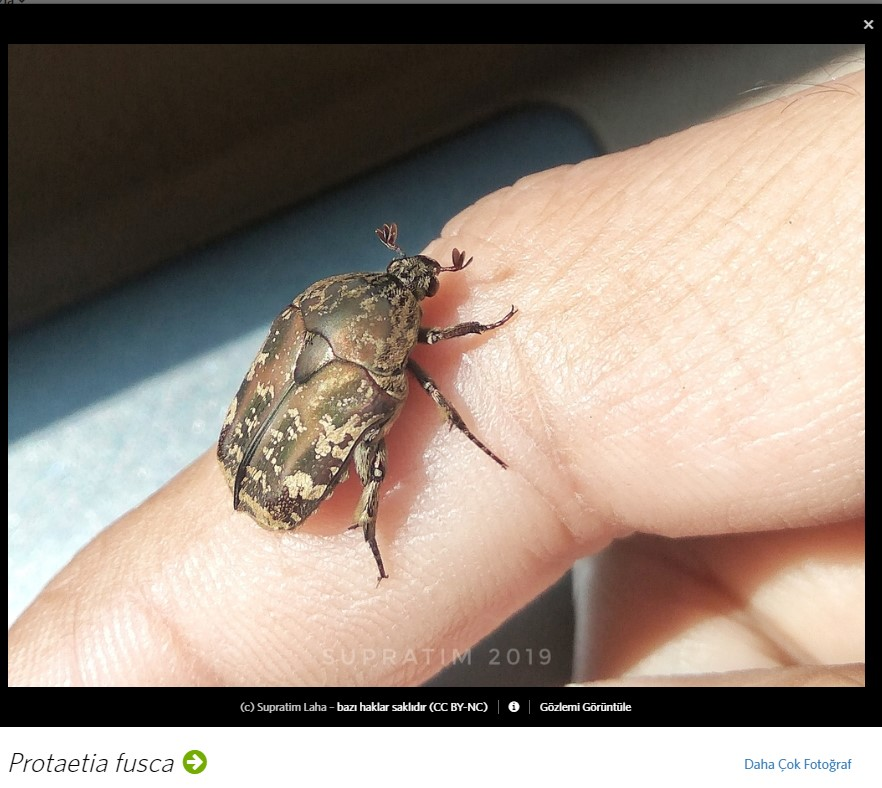Protaetia_fusca: (208, 218, 525, 587)
